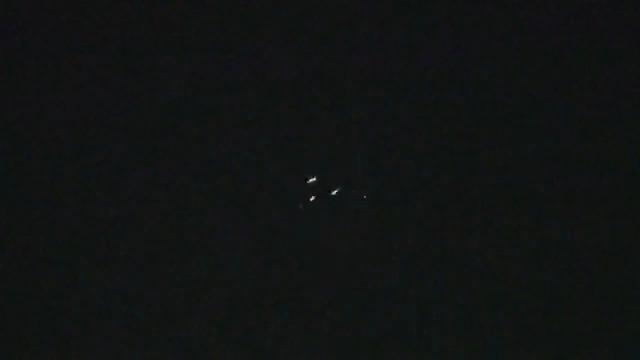Plane: (286, 170, 360, 208)
